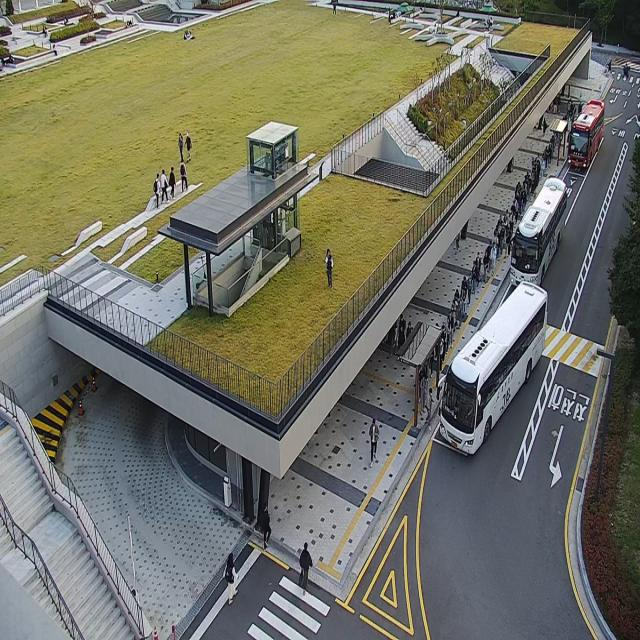queue: (415, 101, 581, 426)
